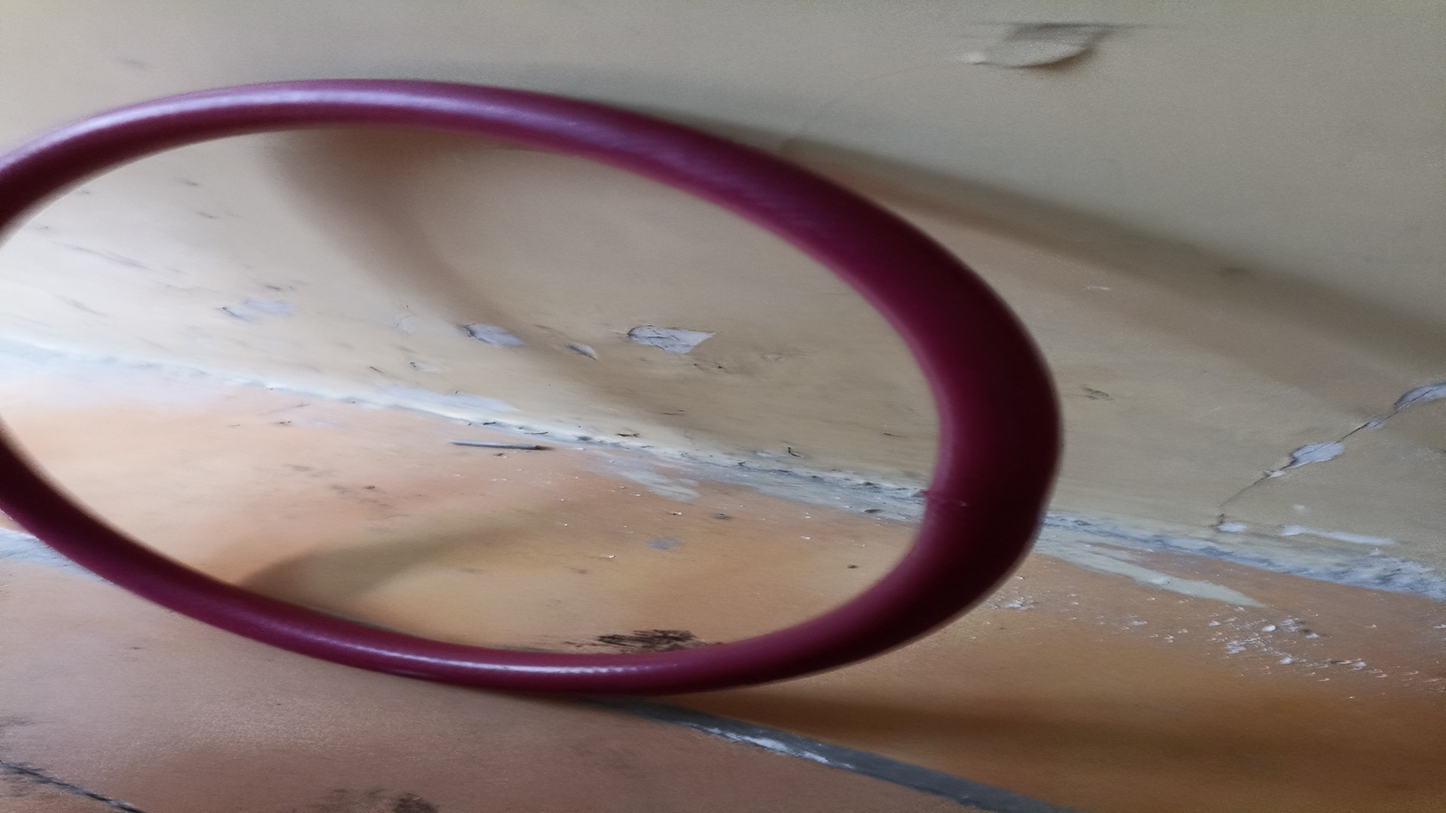Red ring: (8, 79, 1045, 694)
